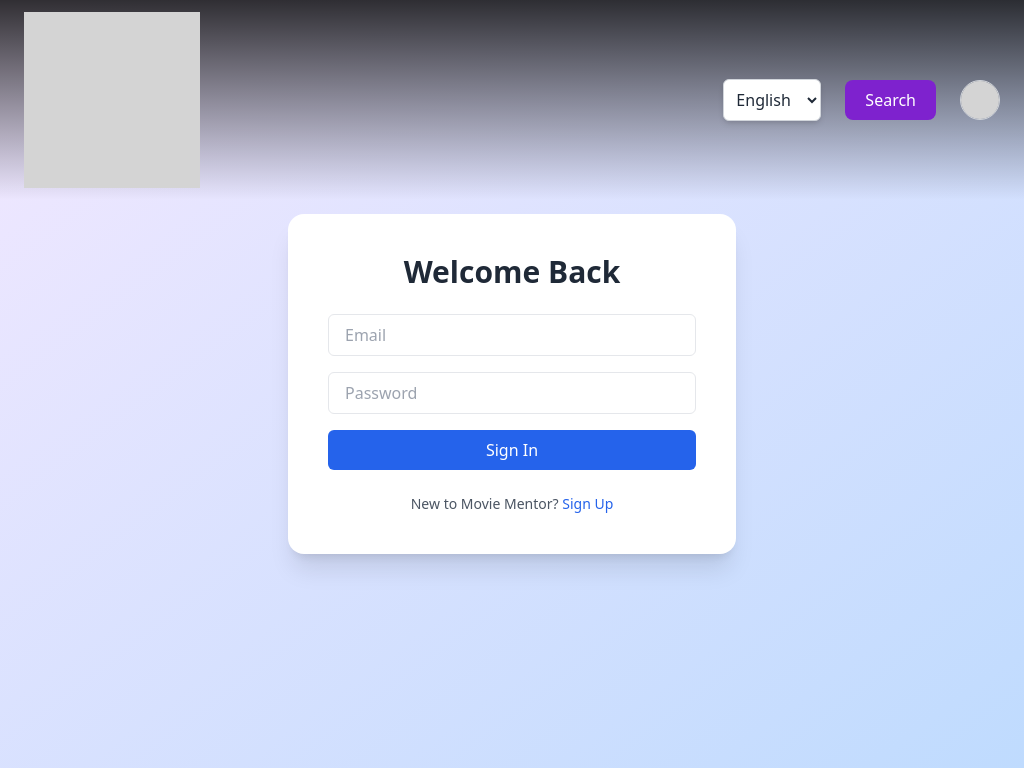
Scenario: Login Component › Sign Up flow › toggles to Sign Up mode and shows Full Name field
Click the text "Sign Up" at {"x": 588, "y": 504}, box [562,494,613,513]
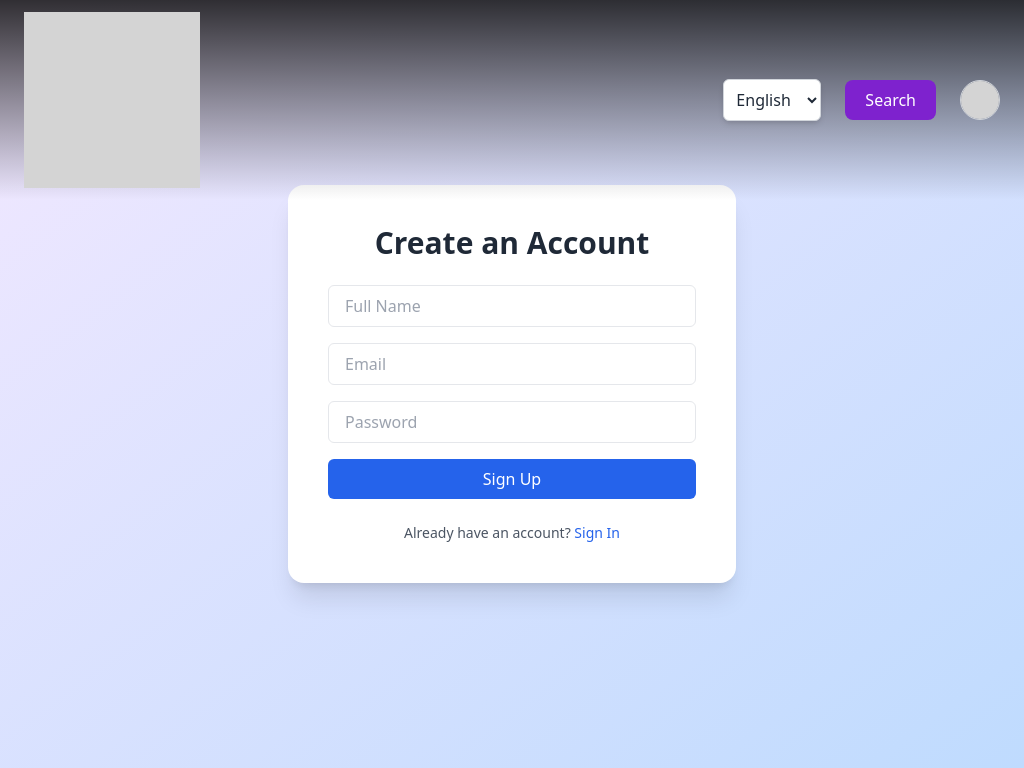
Now the button "Sign Up" is shown, box [328,459,696,499]
Now the field with placeholder "Full Name" is shown, box [328,285,696,327]
